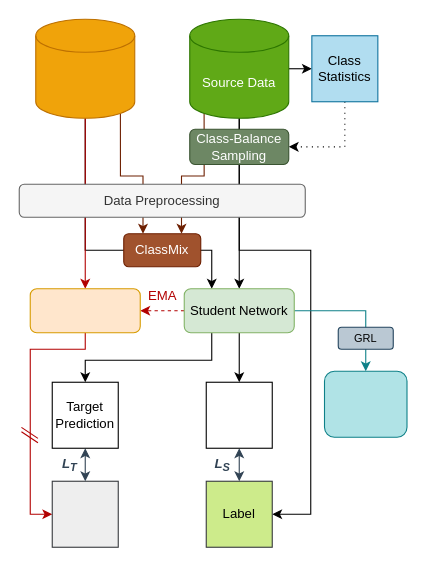
Some shapes in this 427 by 567 pixel diagram are drawn without their labels. The shapes that lost their labels are listed below. From the top down, each one's centre as x and y in pixels, then its label:
At (85,68): "Target Data".
At (84,310): "Teacher Network".
At (238,414): "Source Prediction".
At (365,403): "Domain Discriminator".
At (84,513): "Pseudo Label".
